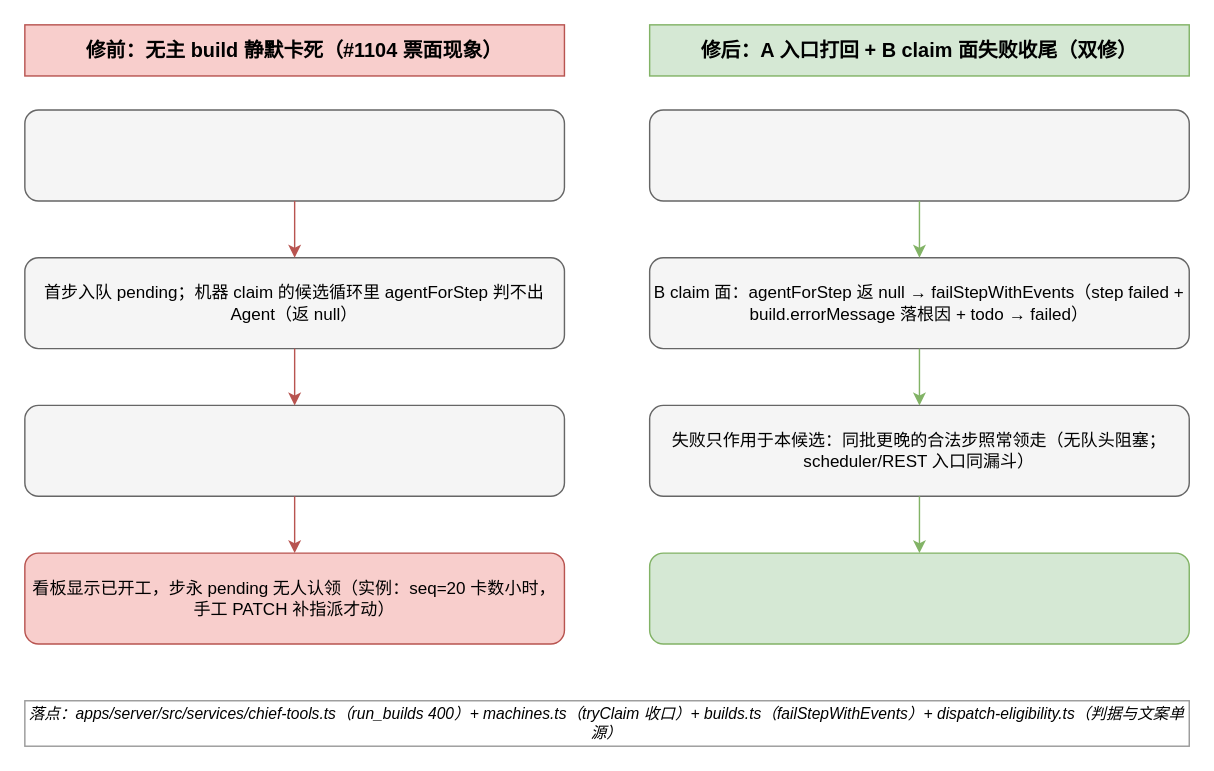
This 1214x771 diagram has some shape labels left out. The centre of each missing label's shape, as x and y in pixels:
A chief 入口：run_builds 两槽全空/整参缺失 → 400，文案带补正示形；chief 下一轮自行补人重派: point (918, 155)
chief run_builds 漏传 assignment：两槽全空照单全收，建出无主 build（{plan:null, build:null}）: point (293, 155)
「未指派 Agent」= 静默 continue：不报错、不落日志、不进任何终态: point (293, 450)
失败可见：看板「待处理」列 + 详情失败行标题 = build.errorMessage（r8 canon；单源判据 agentForStep 不变）: point (918, 598)
